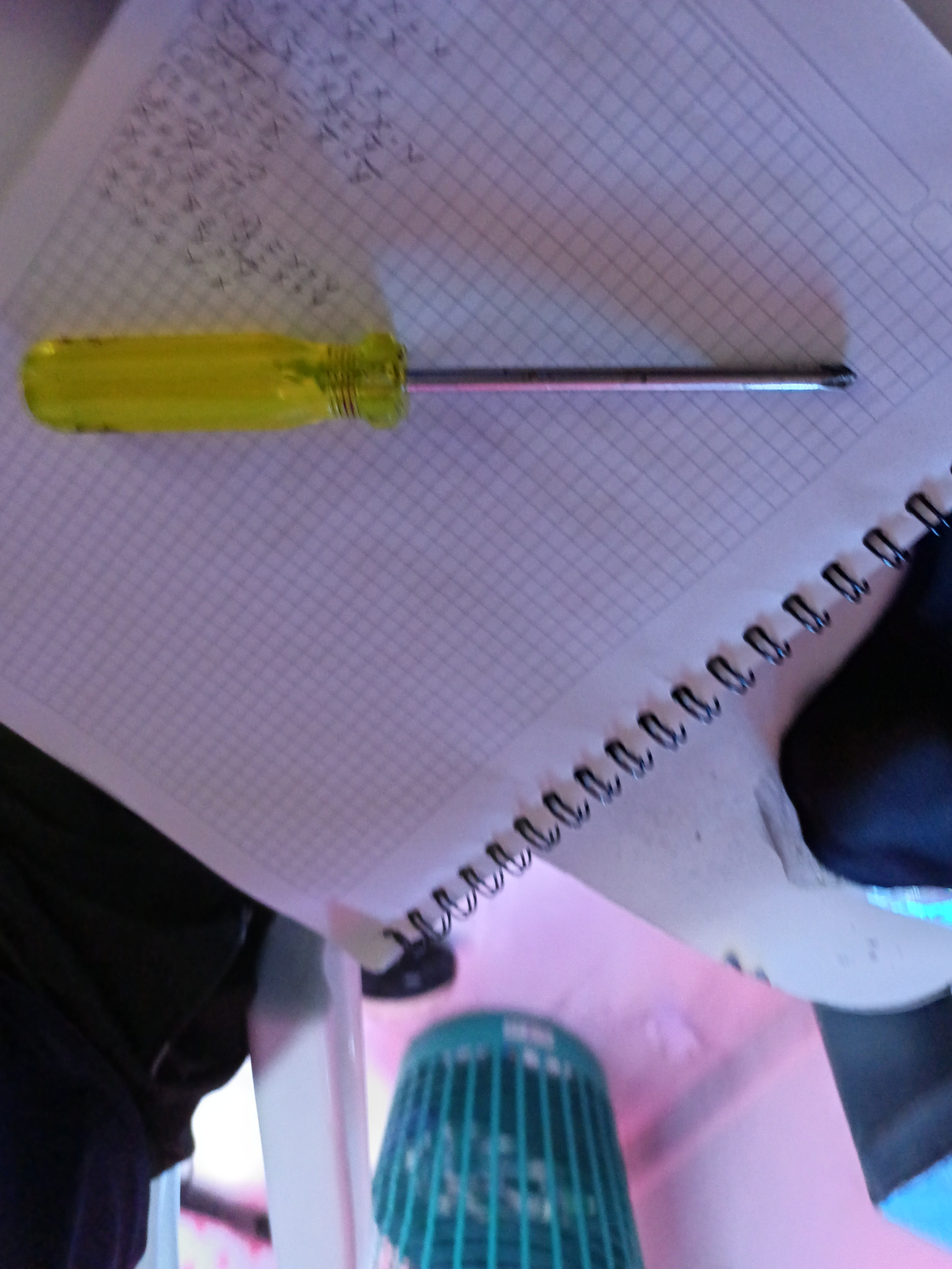Destornillador: (22, 332, 854, 431)
